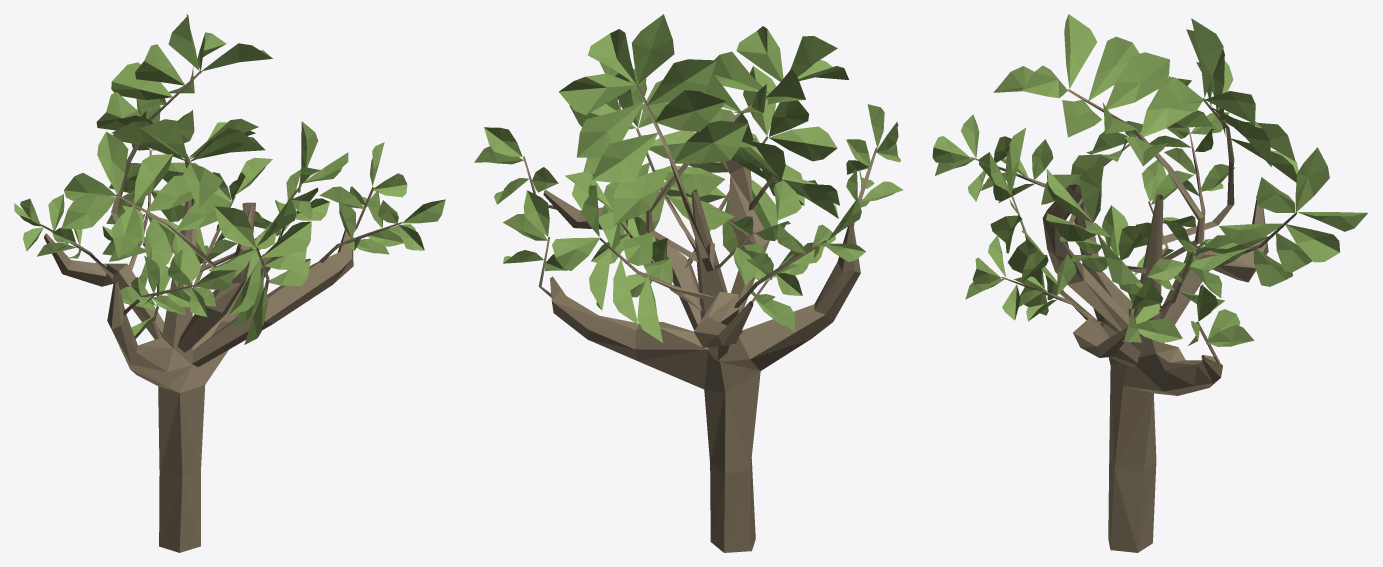
File: Peach_5_1.fbx
3 renders of one model, left to right at view 1: azimuth 30°, elevation 25°; view 2: azimuth 150°, elevation 25°; view 3: azimuth 270°, elevation 25°, orthographic. The views are drawn at different scales.
Visible parts, largest first — view 1: Peach_5_1; view 2: Peach_5_1; view 3: Peach_5_1.
Boxes of the visible parts, left/top/right/bottom form: Peach_5_1: left=14, top=14, right=445, bottom=552; Peach_5_1: left=474, top=14, right=903, bottom=552; Peach_5_1: left=932, top=14, right=1367, bottom=552.
Bounding box in the file's own units: 446 × 574 × 416.
